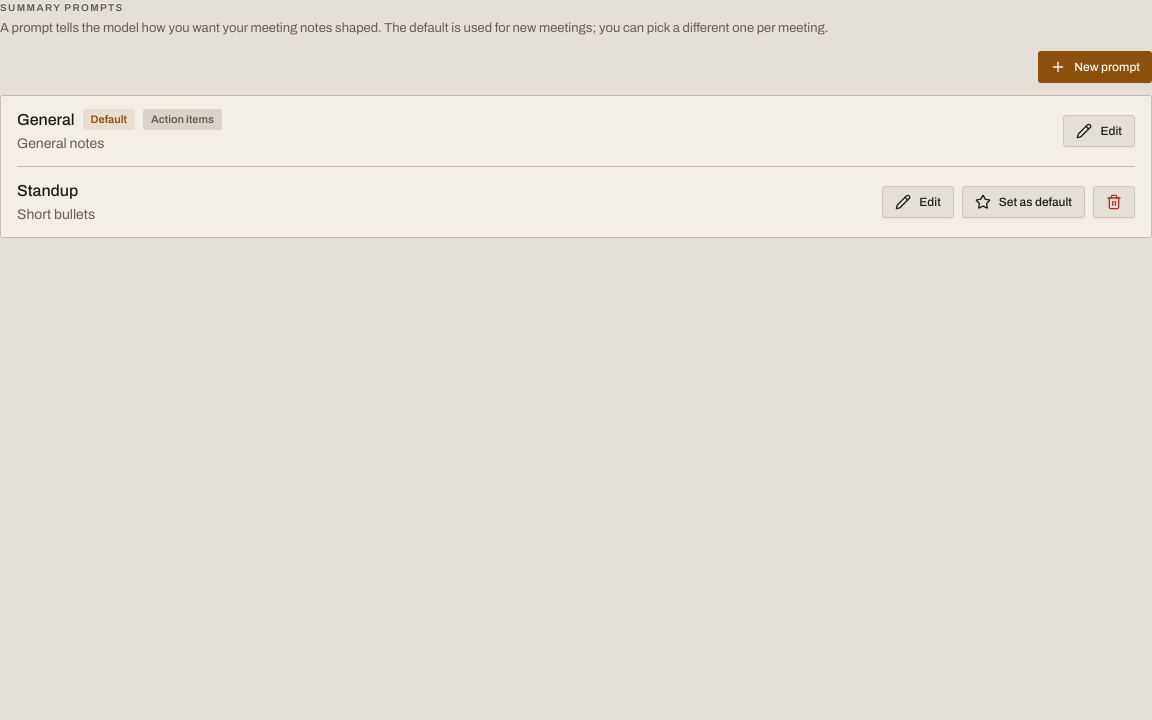
Scenario: SummaryPromptSettings (specs/0079 W4) › opens the editor from New prompt
Expected: the text "General" is shown, [17,108,75,132]
Click the button "New prompt".
click(1095, 66)  # box [1038,50,1151,82]
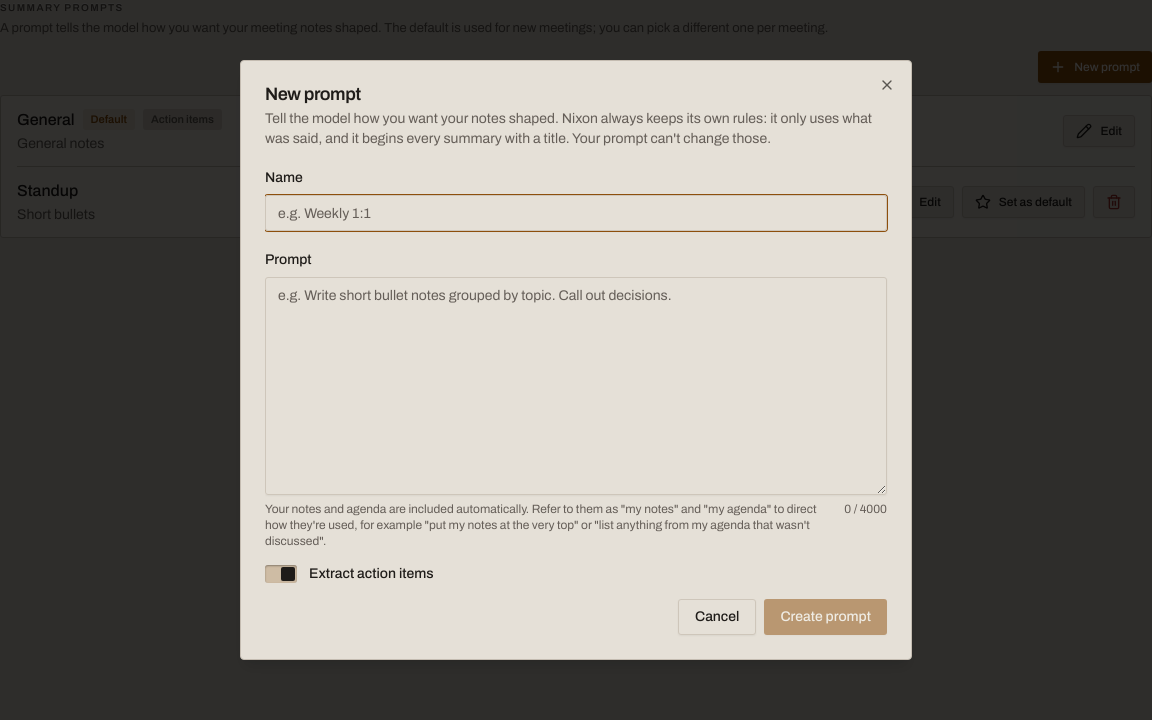
Now the field labelled "Name" is shown, box [265,195,887,231]
